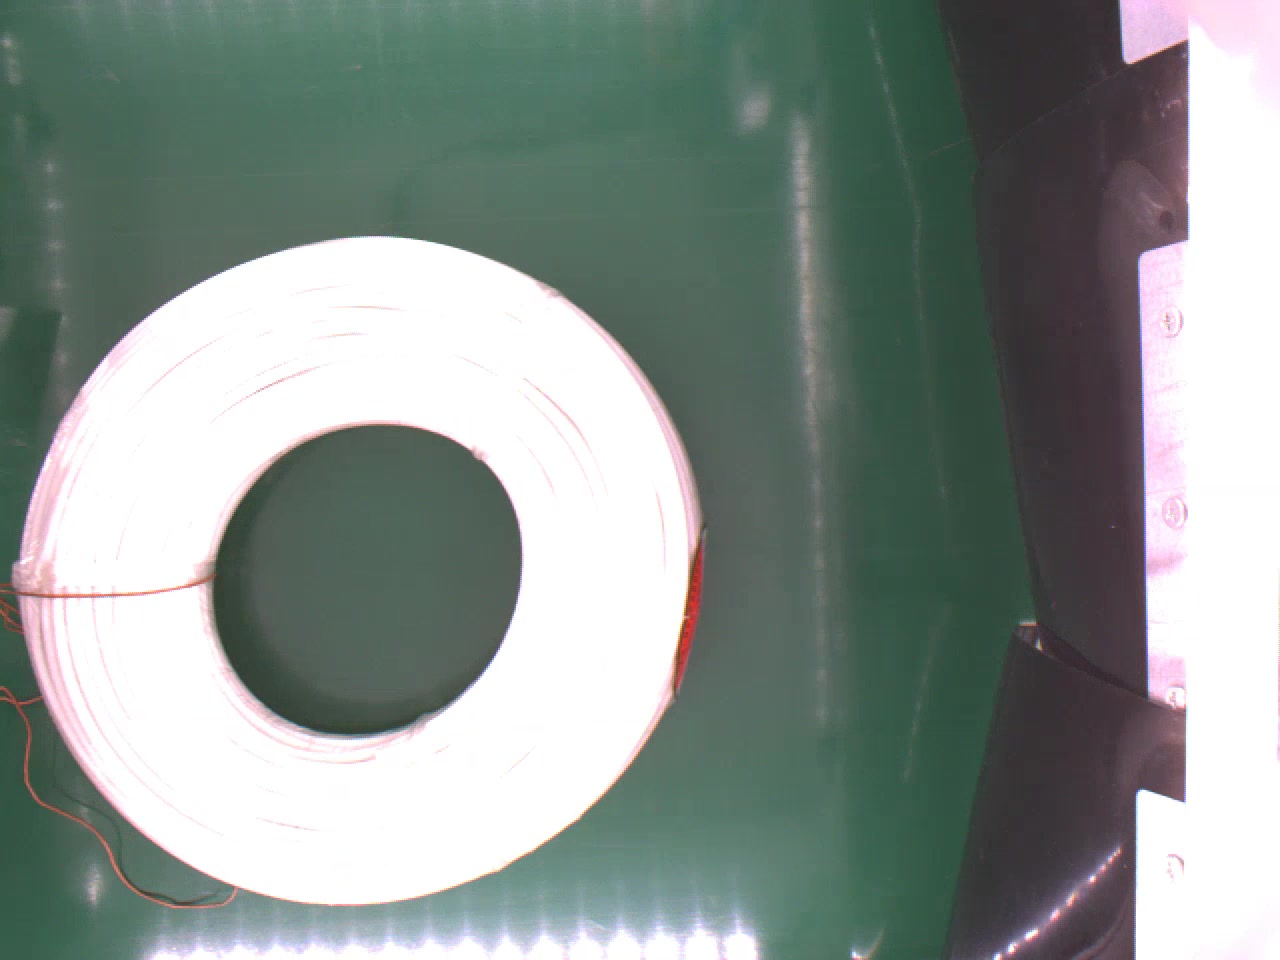white: (11, 232, 705, 908)
